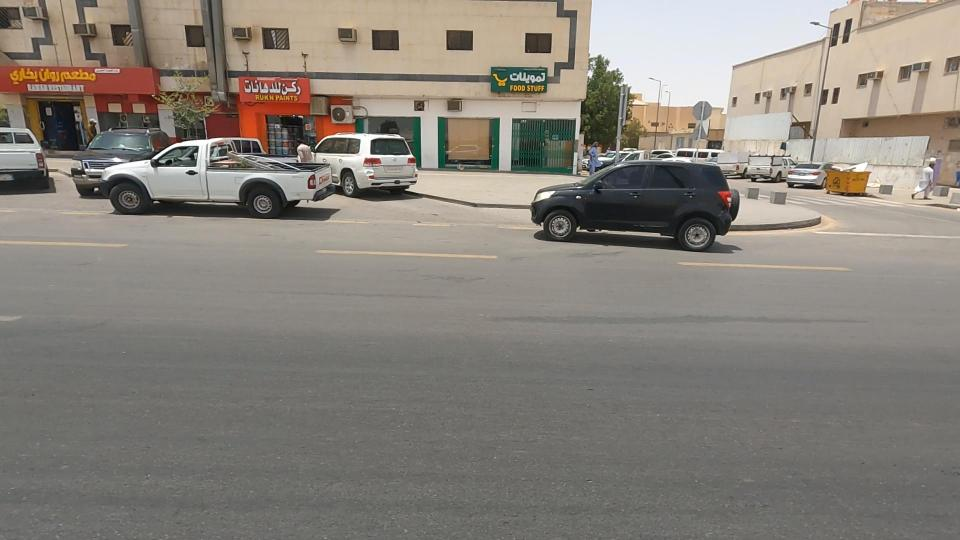GARBAGE: (795, 125, 887, 197)
